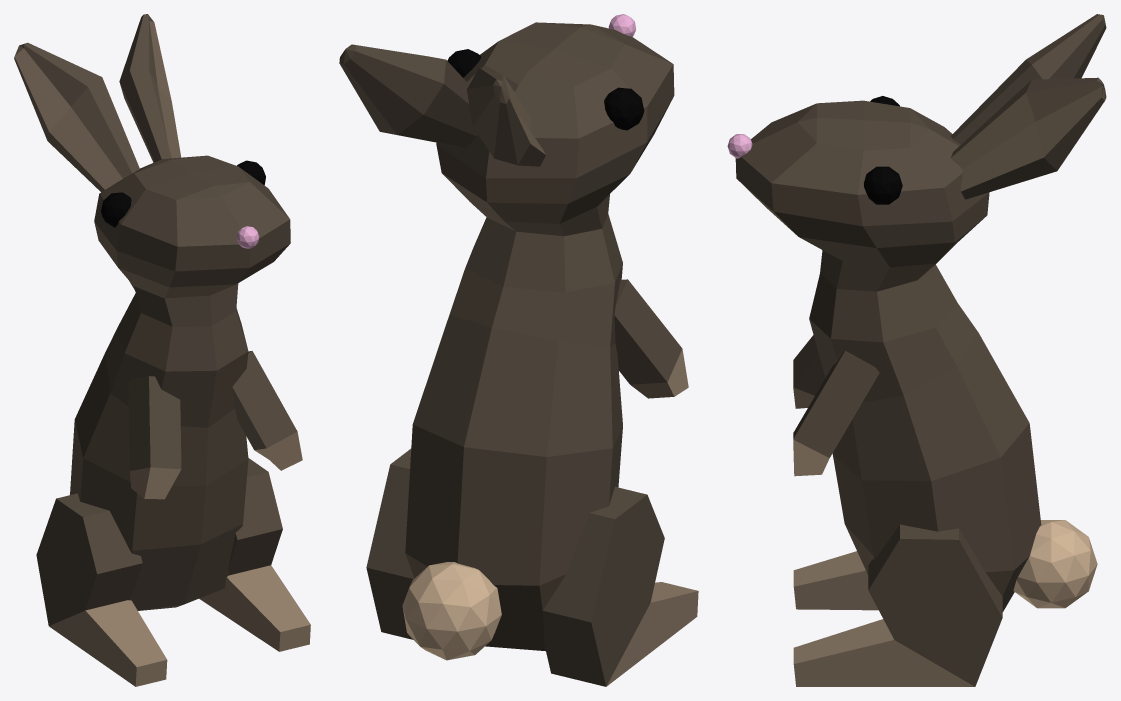
The model's file is polyBunny_variant2.fbx.
3 renders of one model, left to right at view 1: azimuth 30°, elevation 25°; view 2: azimuth 150°, elevation 25°; view 3: azimuth 270°, elevation 25°, orthographic. The views are drawn at different scales.
Parts seen in each view (by area): view 1: Cube.001; view 2: Cube.001; view 3: Cube.001.
Part boxes in pixels (<box>): Cube.001: <box>14,14,310,686</box>; Cube.001: <box>339,14,698,686</box>; Cube.001: <box>727,14,1106,686</box>.
Bounding box in the file's own units: 157 × 432 × 250.
